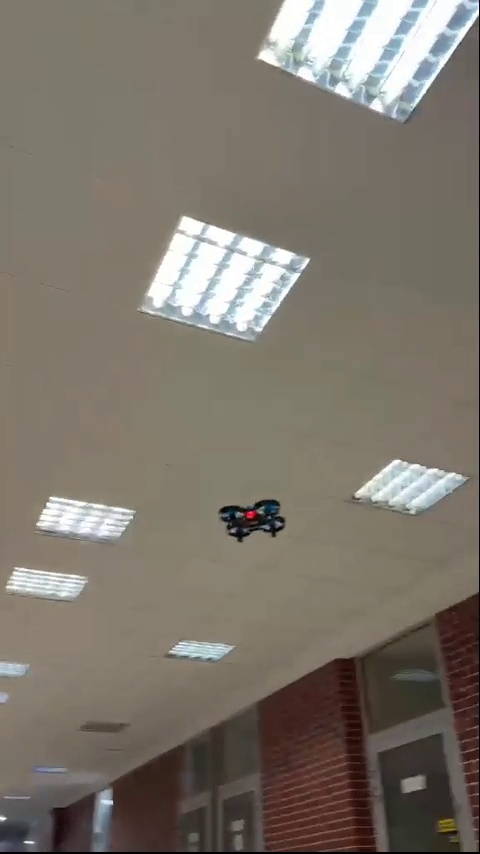drone: (221, 497, 286, 545)
